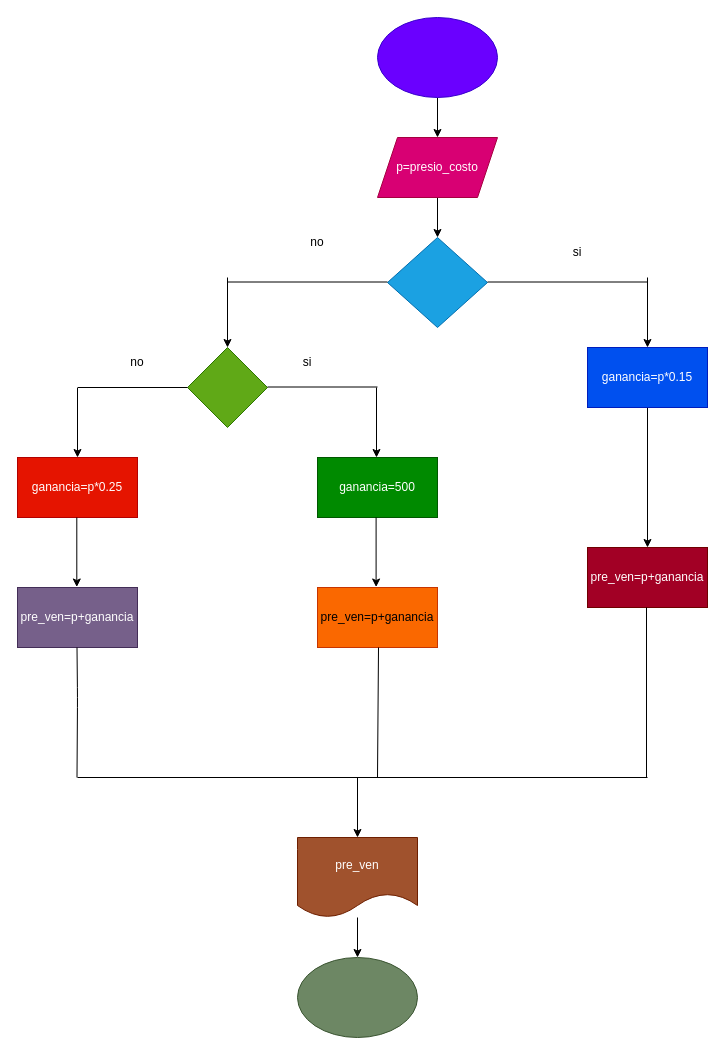
Some shapes in this 725 by 1055 pixel diagram are drawn without their labels. Each missing label, with the centre of its shape:
"FIN" goes at (x=357, y=997).
"INICIO" goes at (x=437, y=57).
"p<3000" goes at (x=437, y=282).
"p<=6000" goes at (x=227, y=387).
